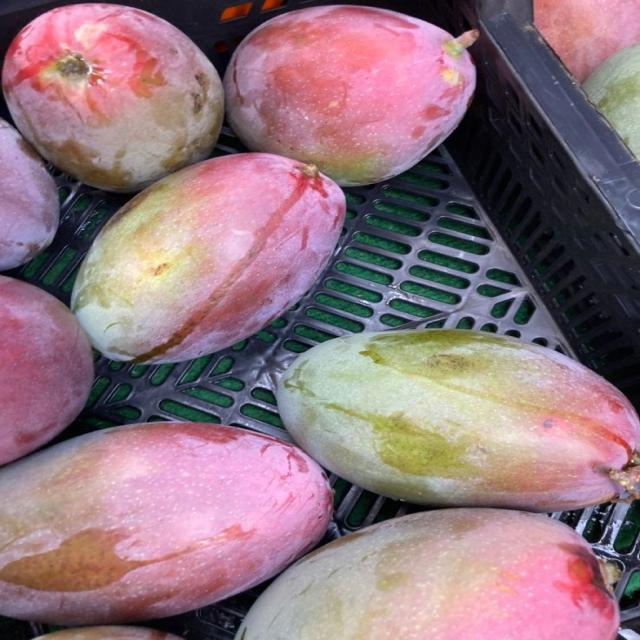mango: (0, 423, 332, 625), (277, 329, 639, 511), (72, 154, 346, 362), (236, 509, 619, 639), (224, 5, 478, 185), (2, 3, 223, 191), (0, 276, 93, 465), (0, 119, 59, 270), (534, 0, 639, 82), (584, 42, 639, 158), (35, 626, 179, 639)
